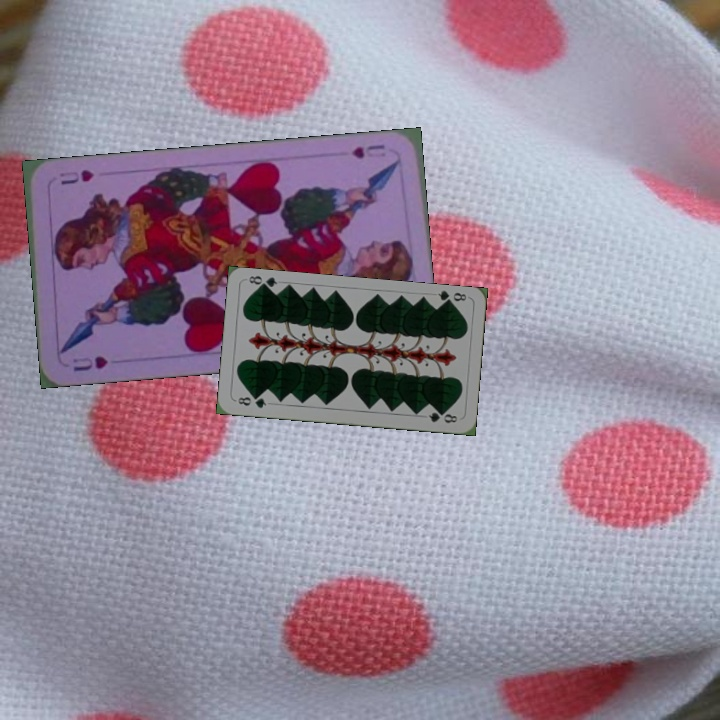G8: (434, 287, 469, 308), (234, 392, 269, 411)
HU: (68, 352, 111, 374), (348, 140, 388, 162)
